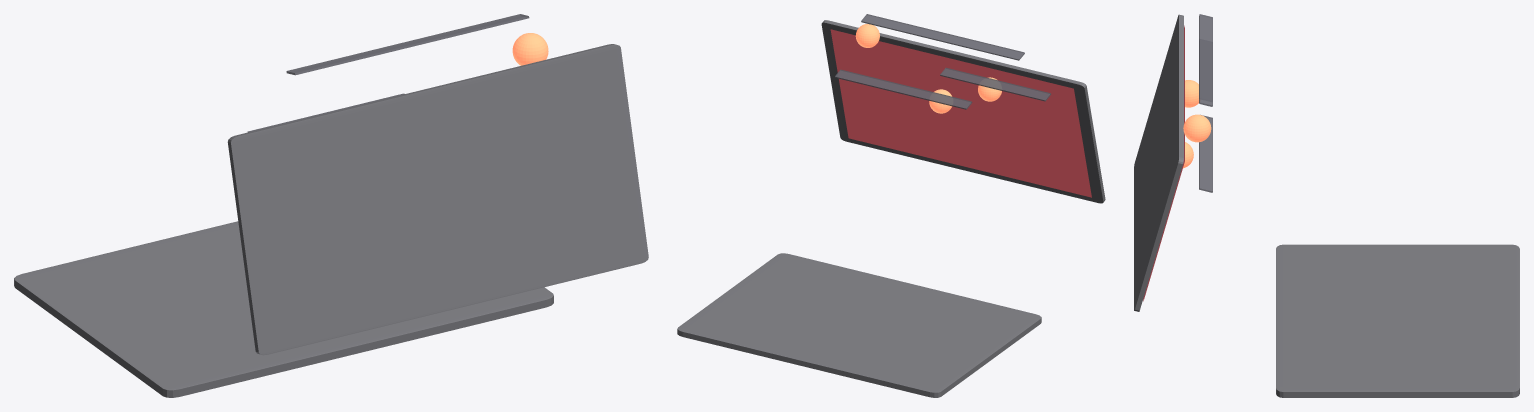
Rendered from macbook-reviews.glb.
3 renders of one model, left to right at view 1: azimuth 30°, elevation 25°; view 2: azimuth 150°, elevation 25°; view 3: azimuth 270°, elevation 25°, orthographic. The views are drawn at different scales.
Parts seen in each view (by area): view 1: MacBook_Lid, MacBook_Base, Review_Bar_0, Notification_Badge_0; view 2: MacBook_Base, MacBook_Screen, MacBook_Lid, Review_Bar_0, Review_Bar_2, Review_Bar_1, Notification_Badge_0; view 3: MacBook_Base, MacBook_Lid, Review_Bar_0, Review_Bar_2, Notification_Badge_0, Notification_Badge_1, MacBook_Screen.
Part boxes in pixels (bbox=[...]): MacBook_Lid: bbox=[227, 44, 648, 355]; MacBook_Base: bbox=[14, 221, 553, 397]; Review_Bar_0: bbox=[286, 14, 529, 75]; Notification_Badge_0: bbox=[512, 33, 548, 65]; MacBook_Base: bbox=[677, 253, 1041, 397]; MacBook_Screen: bbox=[830, 29, 1091, 197]; MacBook_Lid: bbox=[821, 20, 1105, 203]; Review_Bar_0: bbox=[861, 14, 1024, 60]; Review_Bar_2: bbox=[835, 69, 972, 109]; Review_Bar_1: bbox=[940, 67, 1051, 101]; Notification_Badge_0: bbox=[855, 24, 879, 47]; MacBook_Base: bbox=[1276, 244, 1519, 397]; MacBook_Lid: bbox=[1134, 14, 1183, 311]; Review_Bar_0: bbox=[1199, 14, 1212, 106]; Review_Bar_2: bbox=[1199, 114, 1212, 192]; Notification_Badge_0: bbox=[1183, 114, 1211, 142]; Notification_Badge_1: bbox=[1185, 80, 1198, 107]; MacBook_Screen: bbox=[1143, 25, 1184, 301].
Bounding box in the file's own units: 2 × 1.69 × 2.21.
